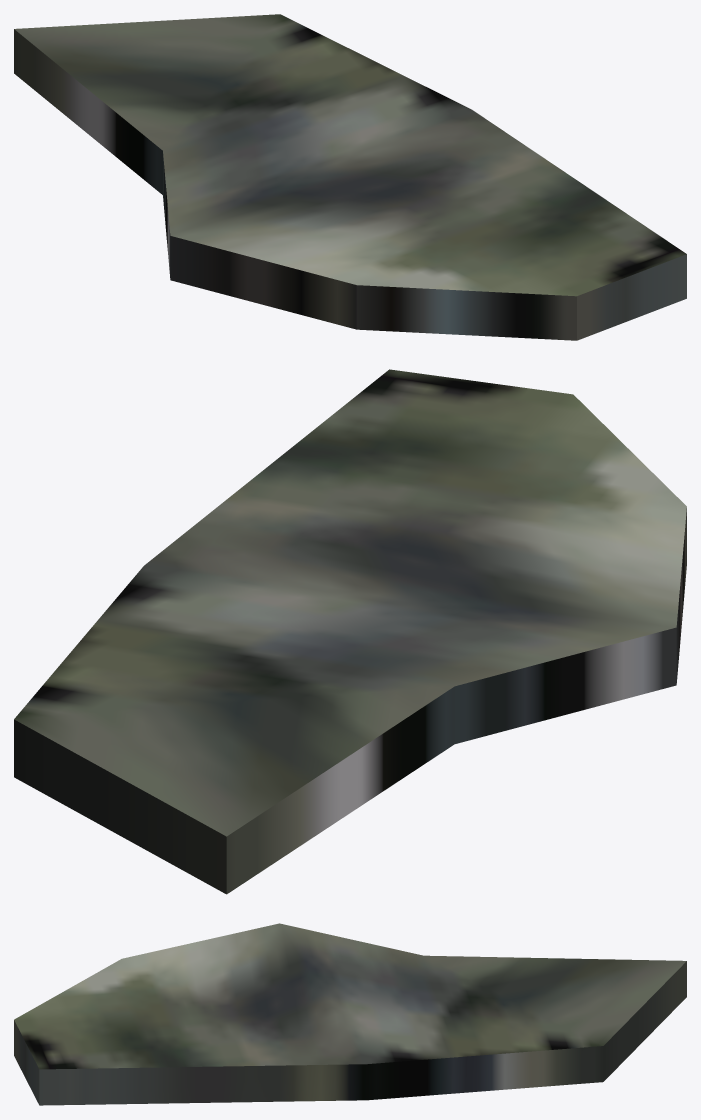
File: USA - Aviation - Spectre Gunship - Damage State 5 - AVSGunship_d5.glb
3 renders of one model, top to bottom at view 1: azimuth 30°, elevation 25°; view 2: azimuth 150°, elevation 25°; view 3: azimuth 270°, elevation 25°, orthographic. The views are drawn at different scales.
Parts seen in each view (by area): view 1: AVSGUNSHIP_D5; view 2: AVSGUNSHIP_D5; view 3: AVSGUNSHIP_D5.
Boxes of the visible parts, x1=… form: AVSGUNSHIP_D5: x1=14, y1=14, x2=686, y2=340; AVSGUNSHIP_D5: x1=14, y1=369, x2=686, y2=894; AVSGUNSHIP_D5: x1=14, y1=923, x2=686, y2=1105.
Bounding box in the file's own units: 6.5 × 0.75 × 12.66.
1 material, 1 textured.
